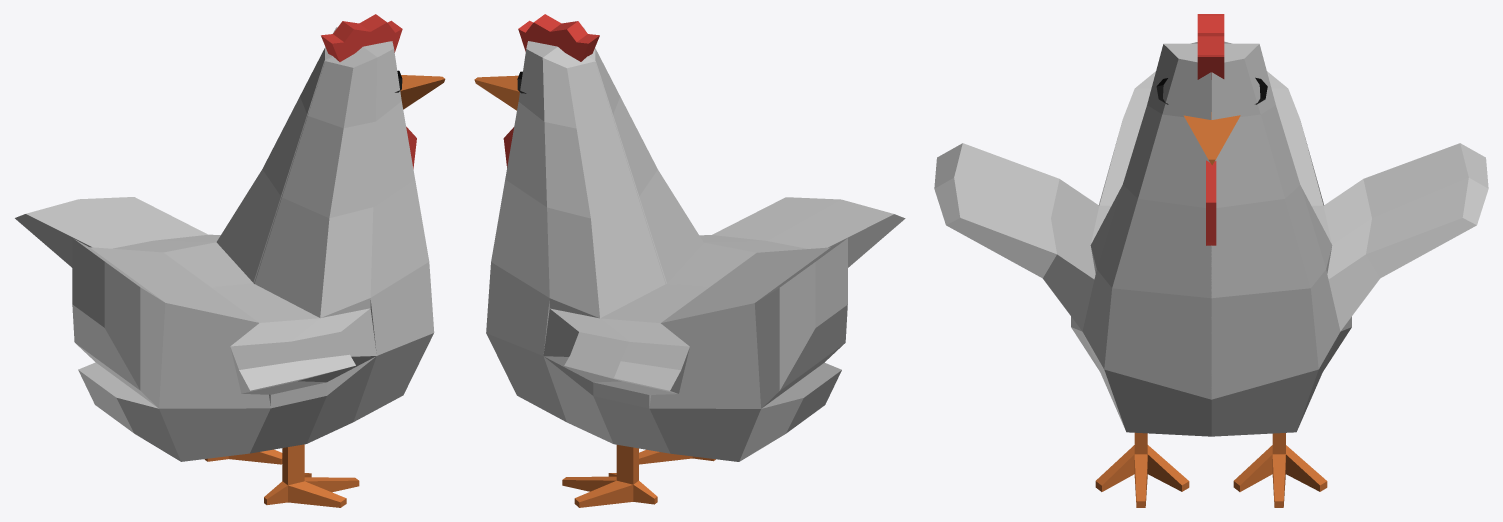
Rendered from chicken2.fbx.
The picture shows the model from 3 angles, left to right: view 1: azimuth 30°, elevation 25°; view 2: azimuth 150°, elevation 25°; view 3: azimuth 270°, elevation 25°; orthographic projection. The views are drawn at different scales.
Visible parts, largest first — view 1: Cube, Cube.002, Cube.001, Circle, Cube.003; view 2: Cube, Cube.003, Cube.001, Circle, Cube.002; view 3: Cube, Cube.002, Cube.003, Cube.001, Circle, Circle.001.
Part boxes in pixels (<box>): Cube: <box>15,27,434,461</box>; Cube.002: <box>264,444,359,507</box>; Cube.001: <box>321,14,402,61</box>; Circle: <box>400,75,445,109</box>; Cube.003: <box>204,449,282,464</box>; Cube: <box>486,27,905,461</box>; Cube.003: <box>562,445,657,507</box>; Cube.001: <box>518,14,599,61</box>; Circle: <box>474,75,519,110</box>; Cube.002: <box>639,449,715,464</box>; Cube: <box>934,41,1488,436</box>; Cube.002: <box>1095,432,1189,507</box>; Cube.003: <box>1233,433,1327,507</box>; Cube.001: <box>1197,14,1224,79</box>; Circle: <box>1183,112,1240,165</box>; Circle.001: <box>1206,160,1216,245</box>.
Bounding box in the file's own units: 482 × 560 × 558.
